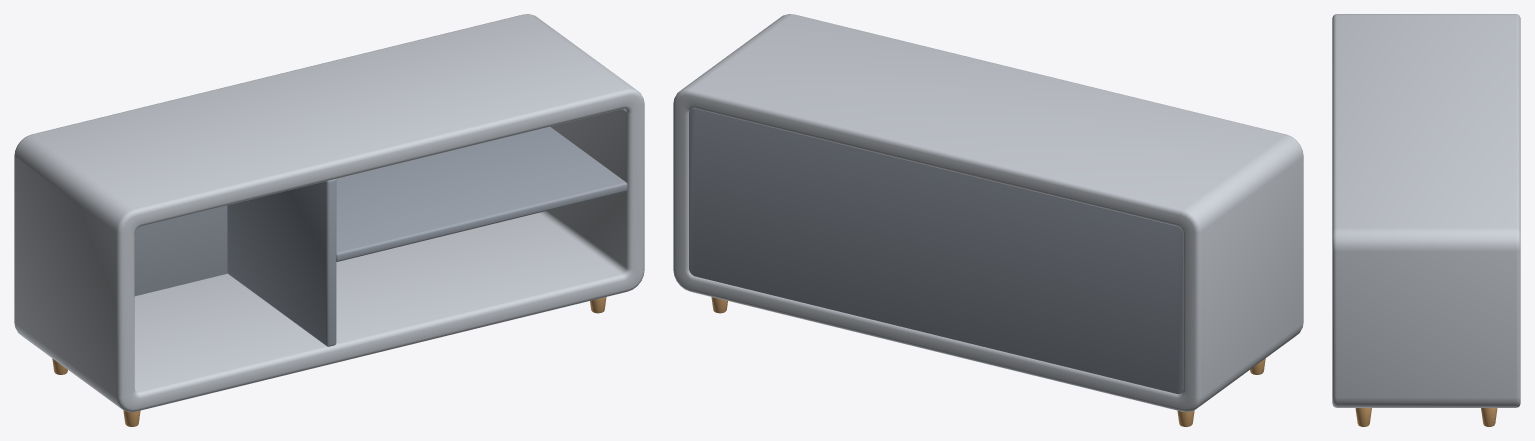
The model's file is rack_nichos_abertos_cinza.glb.
The picture shows the model from 3 angles, left to right: view 1: azimuth 30°, elevation 25°; view 2: azimuth 150°, elevation 25°; view 3: azimuth 270°, elevation 25°; orthographic projection. The views are drawn at different scales.
Parts seen in each view (by area): view 1: rack_nichos_abertos_cinza; view 2: rack_nichos_abertos_cinza; view 3: rack_nichos_abertos_cinza.
Boxes of the visible parts, box(x1,y1,x2,y2) form: rack_nichos_abertos_cinza: box(14, 14, 644, 426); rack_nichos_abertos_cinza: box(673, 14, 1303, 426); rack_nichos_abertos_cinza: box(1332, 14, 1520, 426).
Bounding box in the file's own units: 1.2 × 0.5 × 0.42.
Materials: 1 (1 with a texture image).
